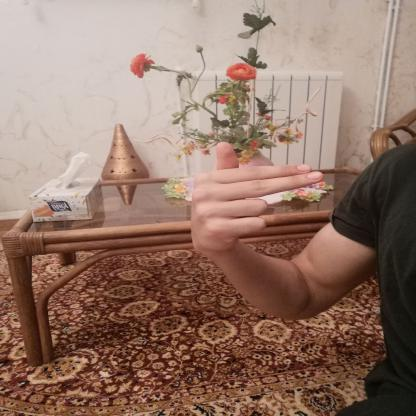GHAYN: (177, 134, 332, 258)
